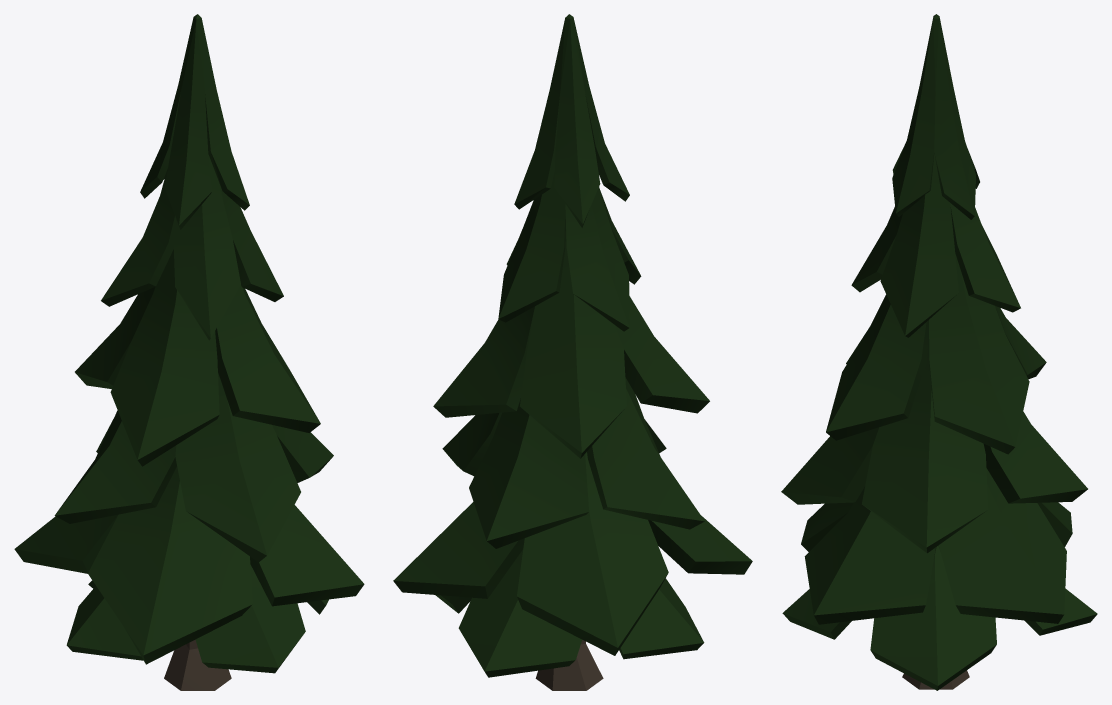
The model's file is SpruceD.fbx.
3 views of the same model, side by side, from view 1: azimuth 30°, elevation 25°; view 2: azimuth 150°, elevation 25°; view 3: azimuth 270°, elevation 25° (orthographic).
Visible parts, largest first — view 1: SpruceD; view 2: SpruceD; view 3: SpruceD.
Part boxes in pixels (x1,y1,x2,y2): SpruceD: (14, 14, 364, 690); SpruceD: (393, 14, 752, 690); SpruceD: (781, 14, 1097, 690).
Bounding box in the file's own units: 972 × 2203 × 954.
